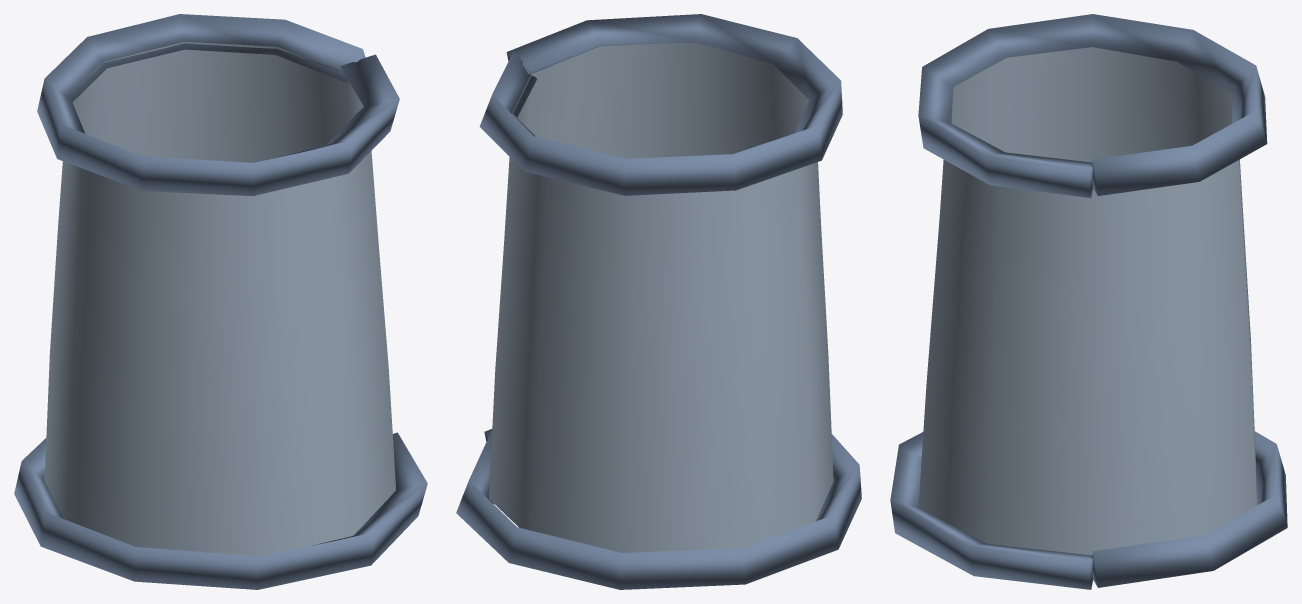
The model's file is titanium_armor_bracer.R.glb.
The picture shows the model from 3 angles, left to right: view 1: azimuth 30°, elevation 25°; view 2: azimuth 150°, elevation 25°; view 3: azimuth 270°, elevation 25°; orthographic projection.
Parts seen in each view (by area): view 1: titanium_armor_bracer.R; view 2: titanium_armor_bracer.R; view 3: titanium_armor_bracer.R.
Boxes of the visible parts, x1,y1,x2,y2 form: titanium_armor_bracer.R: [14, 14, 427, 589]; titanium_armor_bracer.R: [456, 14, 861, 589]; titanium_armor_bracer.R: [890, 14, 1287, 589].
Bounding box in the file's own units: 0.1516 × 0.1719 × 0.1476.
